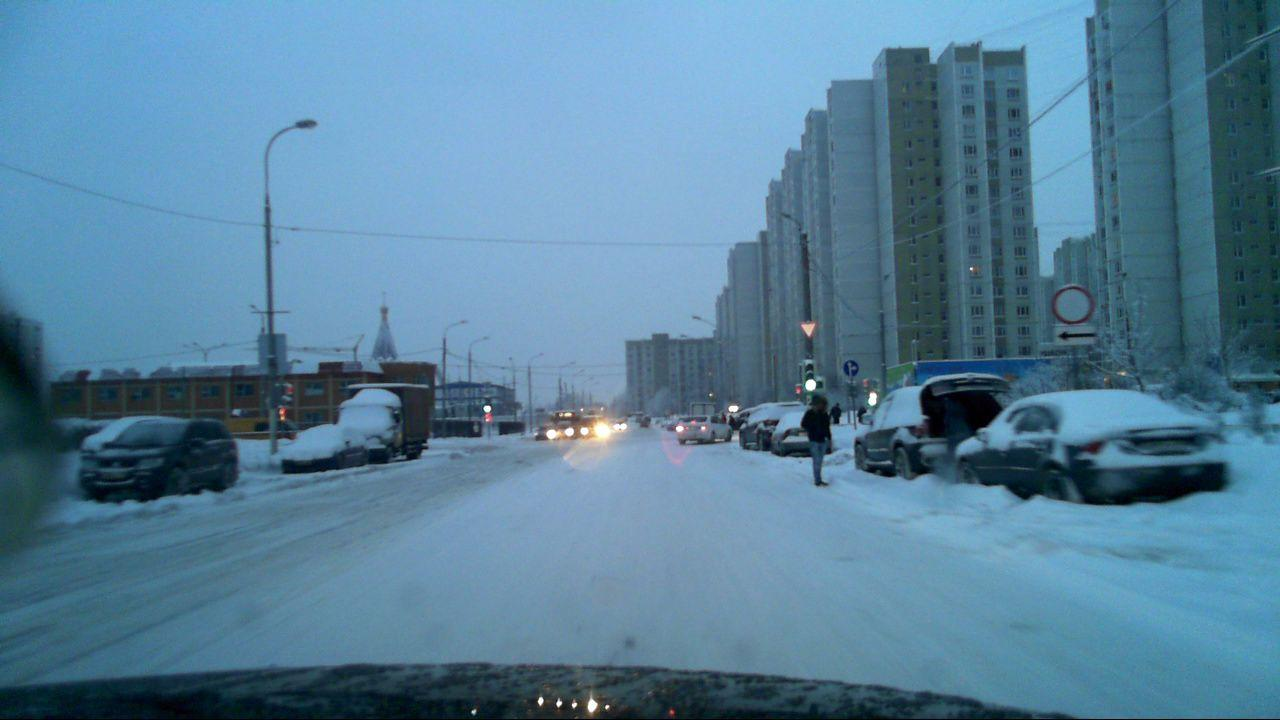2_4: (799, 319, 819, 339)
3_2: (1050, 281, 1094, 326)
4_1_4: (843, 357, 861, 376)
8_3_2: (1051, 326, 1097, 349)
